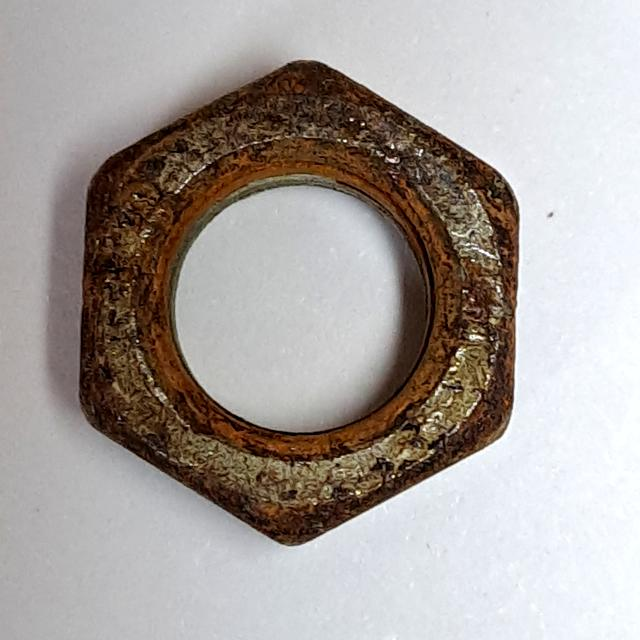Rust: (57, 38, 535, 568)
